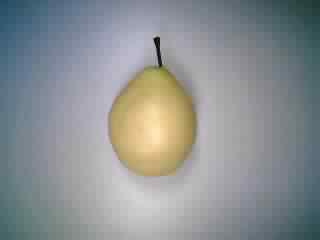pear: (100, 35, 215, 179)
